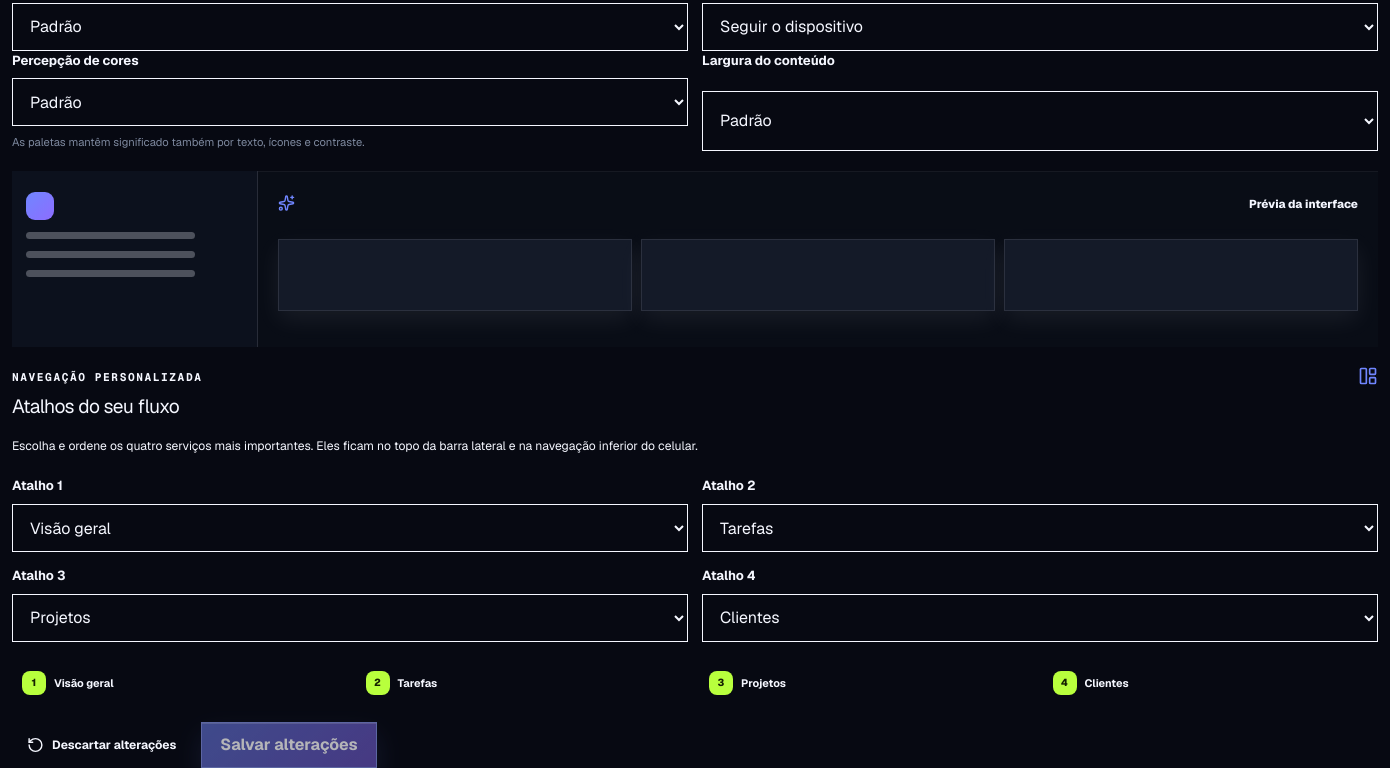
Test: settings preference transaction › keeps four unique quick-access destinations while reordering selections
(page scrolled)
expect the dropdown labelled "Atalho 2" shows "Tarefas": met, box [702,504,1378,552]
Select "Tarefas" in the dropdown labelled "Atalho 1" at coordinates (350, 528), box [12,504,688,552]
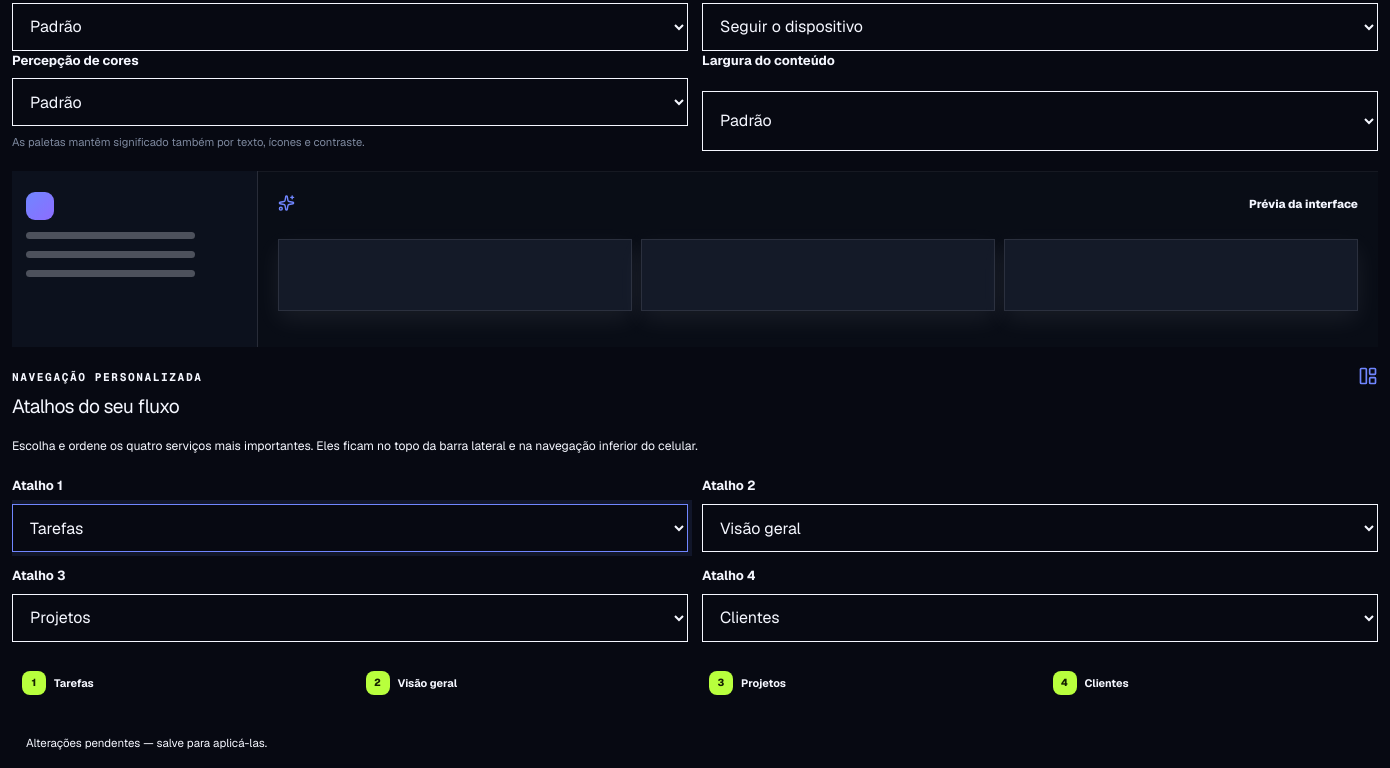
expect the dropdown labelled "Atalho 2" shows "Visão geral": met, box [702,504,1378,552]
